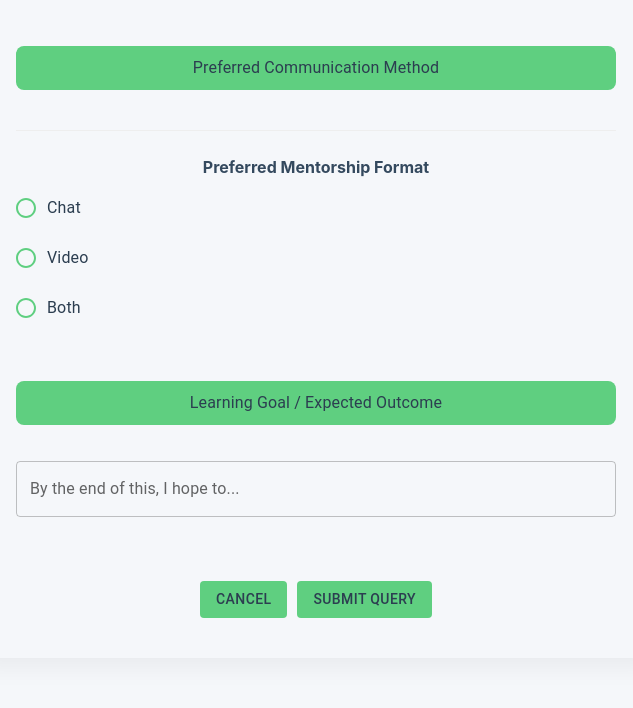
Test: disables submit if required fields are empty
(page scrolled)
Click the button "SUBMIT QUERY": coordinates (365, 599) [298,581,432,618]
(page scrolled)
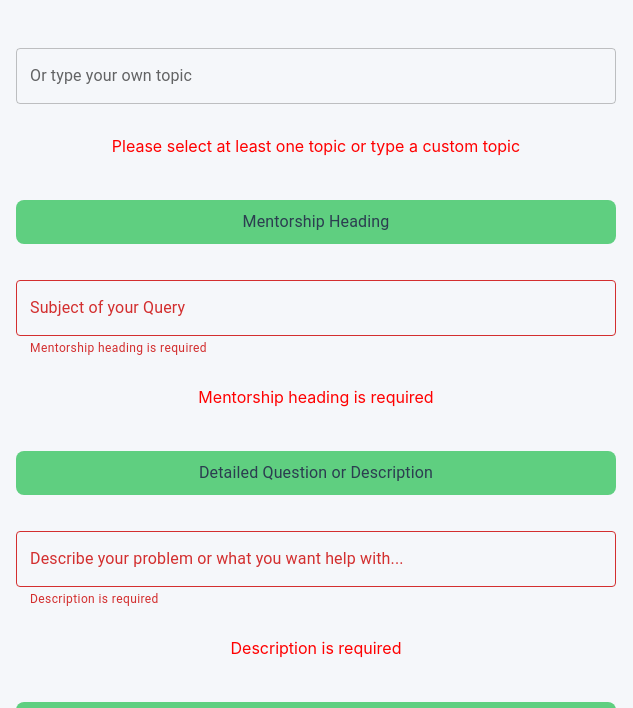
Check: the text "Mentorship heading is required" below "Subject of your Query" is shown, box [30,341,207,355]
